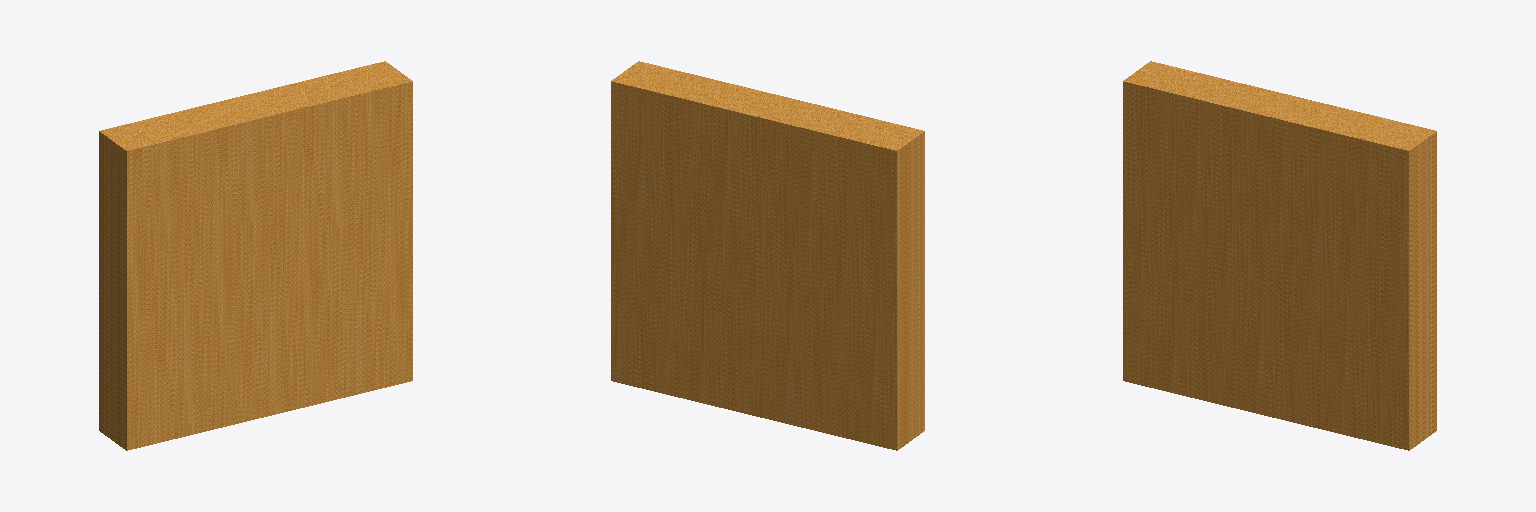
3 views of the same model, side by side, from view 1: azimuth 30°, elevation 25°; view 2: azimuth 150°, elevation 25°; view 3: azimuth 330°, elevation 25° (orthographic).
Size of the model in its own units: 6 by 6 by 1.
Materials: 1 (1 with a texture image).